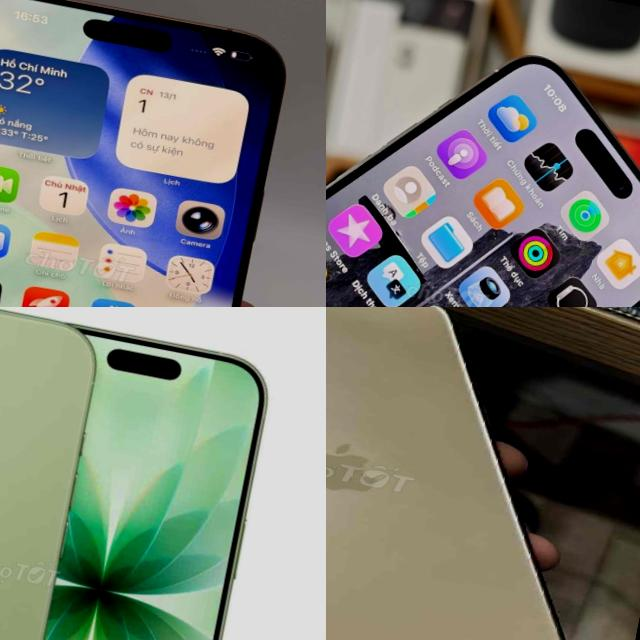gen_11: (326, 307, 640, 640)
gen_15: (326, 0, 640, 307)
gen_16: (0, 0, 312, 307)
gen_17: (0, 307, 109, 640)
